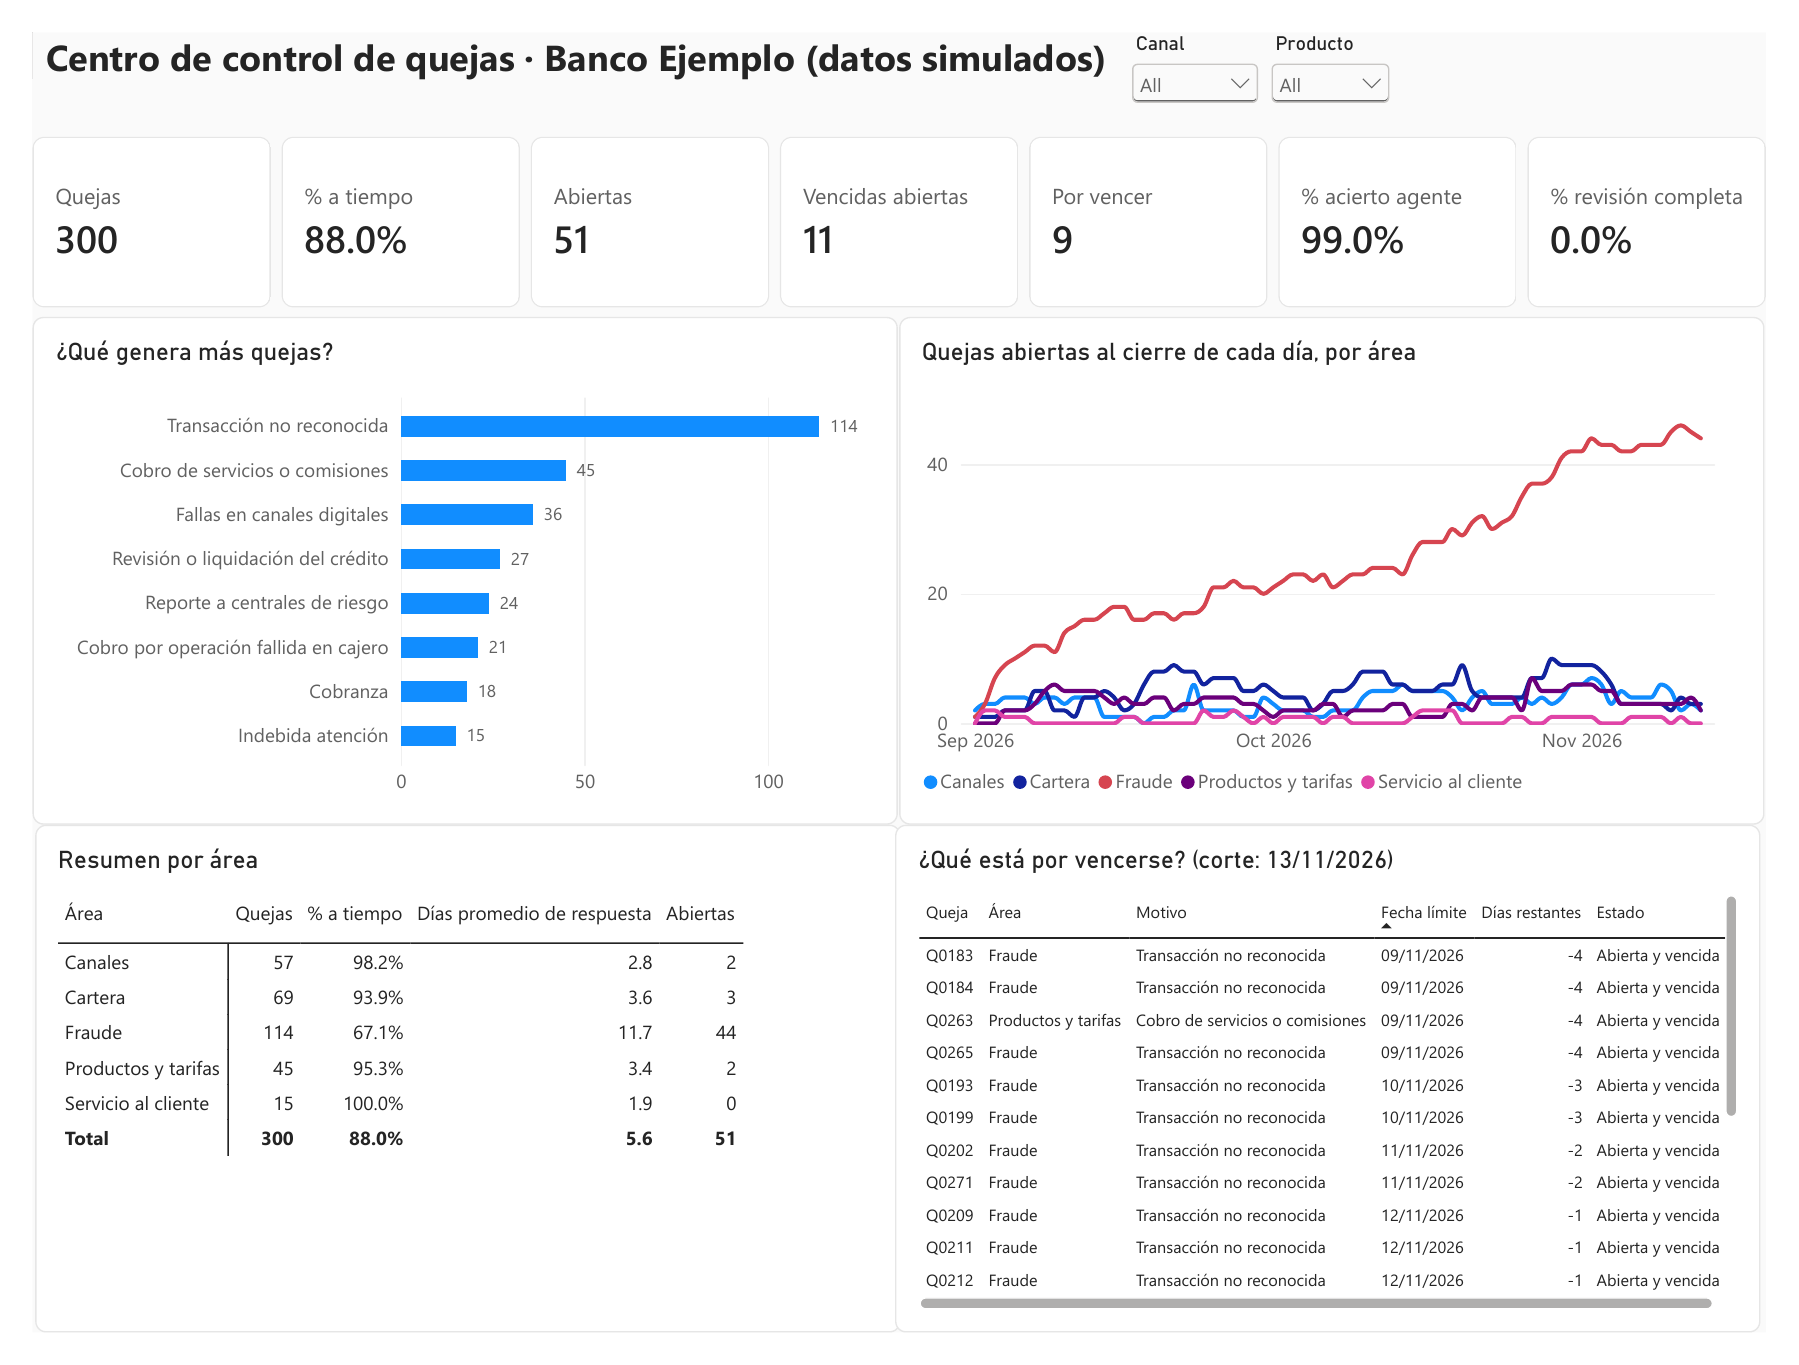

This screenshot's page, from the dashboard's own definition file:
{"tool":"powerbi","page":{"name":"Page 1","canvas":[1280,960],"ordinal":0},"visuals":[{"type":"textbox","box":[10,0,827.5,280],"z":0},{"type":"cardVisual","fields":{"Data":["quejas_tablero.Quejas","quejas_tablero.% a tiempo","quejas_tablero.Abiertas","quejas_tablero.Vencidas abiertas","quejas_tablero.Por vencer","quejas_tablero.% acierto del agente","quejas_tablero.% revisión completa"]},"box":[0,76.7,1280,126.7],"z":1},{"type":"clusteredBarChart","title":"¿Qué genera más quejas?","fields":{"Category":["quejas_tablero.motivo"],"Y":["quejas_tablero.Quejas"]},"box":[0,210,638.9,375],"z":2},{"type":"lineChart","title":"Quejas abiertas al cierre de cada día, por área","fields":{"Category":["cola_diaria.fecha"],"Series":["cola_diaria.area"],"Y":["Sum(cola_diaria.abiertas_al_cierre)"]},"box":[640,210,638.9,375],"z":3},{"type":"pivotTable","title":"Resumen por área","fields":{"Rows":["quejas_tablero.area"],"Values":["quejas_tablero.Quejas","quejas_tablero.% a tiempo","quejas_tablero.Días promedio de respuesta","quejas_tablero.Abiertas"]},"box":[1.7,585,639,375],"z":4},{"type":"tableEx","title":"¿Qué está por vencerse? (corte: 13/11/2026)","fields":{"Values":["quejas_tablero.id","quejas_tablero.area","quejas_tablero.motivo","quejas_tablero.fecha_limite","quejas_tablero.dias_habiles_restantes","quejas_tablero.estado"]},"box":[636.7,585,639,375],"z":5},{"type":"slicer","fields":{"Values":["quejas_tablero.canal"]},"box":[806.7,0,103.3,76.7],"z":6},{"type":"slicer","fields":{"Values":["quejas_tablero.producto"]},"box":[910,0,96.7,76.7],"z":7}]}

Visuals, with their boxes in screenshot pixels (x1, y1, x2, y2), scaled from the page's 1280x960 canvas onto the 1799x1365 screenshot:
textbox: [14,0,1177,398]
cardVisual - quejas_tablero.Quejas x quejas_tablero.% a tiempo: [0,109,1798,289]
"¿Qué genera más quejas?" clusteredBarChart: [0,299,898,832]
"Quejas abiertas al cierre de cada día, por área" lineChart: [900,299,1797,832]
"Resumen por área" pivotTable: [2,832,900,1364]
"¿Qué está por vencerse? (corte: 13/11/2026)" tableEx: [895,832,1793,1364]
slicer - quejas_tablero.canal: [1134,0,1279,109]
slicer - quejas_tablero.producto: [1279,0,1415,109]
